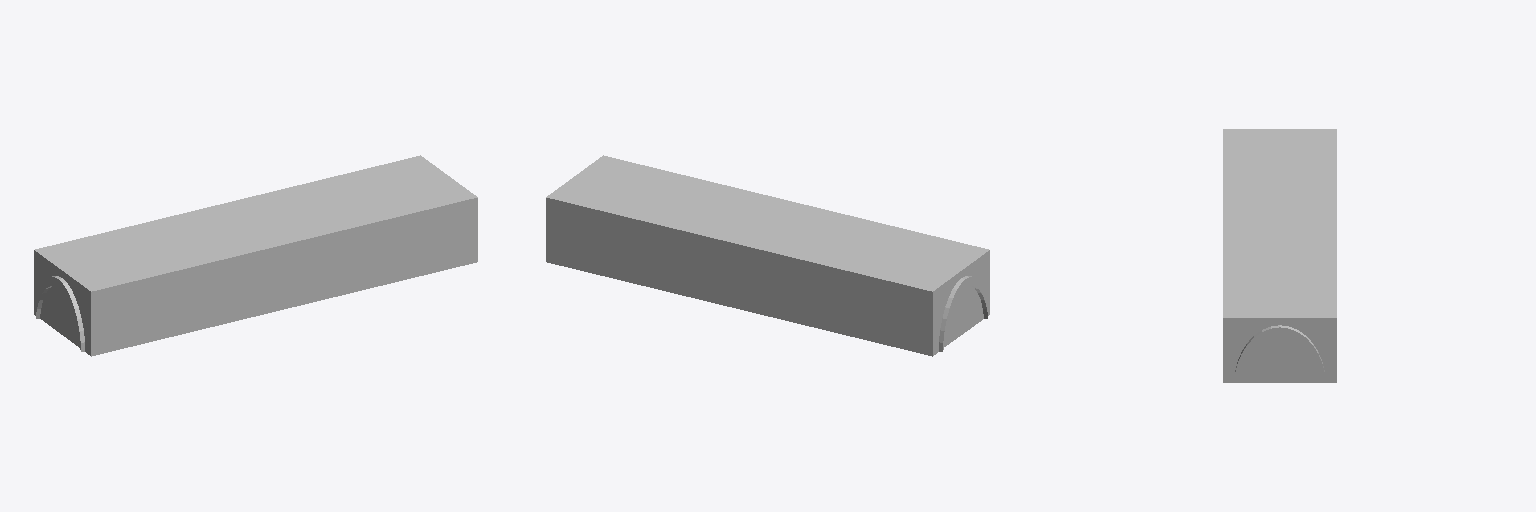
File: TunnelSmall.obj
The picture shows the model from 3 angles: view 1: azimuth 30°, elevation 25°; view 2: azimuth 150°, elevation 25°; view 3: azimuth 270°, elevation 25°; orthographic projection.
Visible parts, largest first — view 1: TonnelRoof_Cube, Tunnel_Cylinder; view 2: TonnelRoof_Cube, Tunnel_Cylinder; view 3: TonnelRoof_Cube, Tunnel_Cylinder.
Boxes of the visible parts, x1=… form: TonnelRoof_Cube: x1=34, y1=155, x2=477, y2=356; Tunnel_Cylinder: x1=36, y1=276, x2=84, y2=351; TonnelRoof_Cube: x1=546, y1=155, x2=989, y2=356; Tunnel_Cylinder: x1=939, y1=276, x2=987, y2=351; TonnelRoof_Cube: x1=1223, y1=129, x2=1336, y2=382; Tunnel_Cylinder: x1=1235, y1=325, x2=1324, y2=381.
Bounding box in the file's own units: 1185 × 185 × 297.